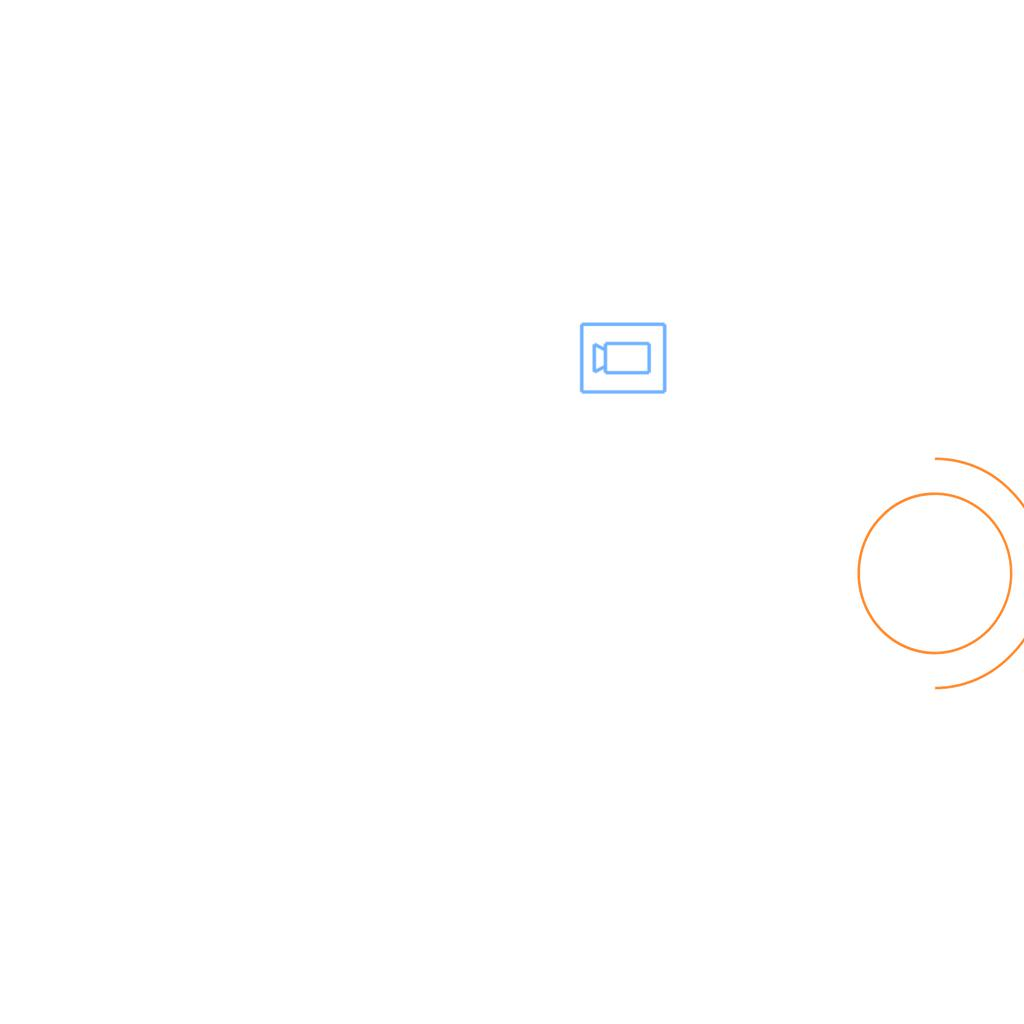KFO_Kamera_mit_Festobjektiv: (578, 319, 669, 396)
Scheinwerfer_fuer_Alarmbeleuchtung: (832, 435, 1024, 699)
